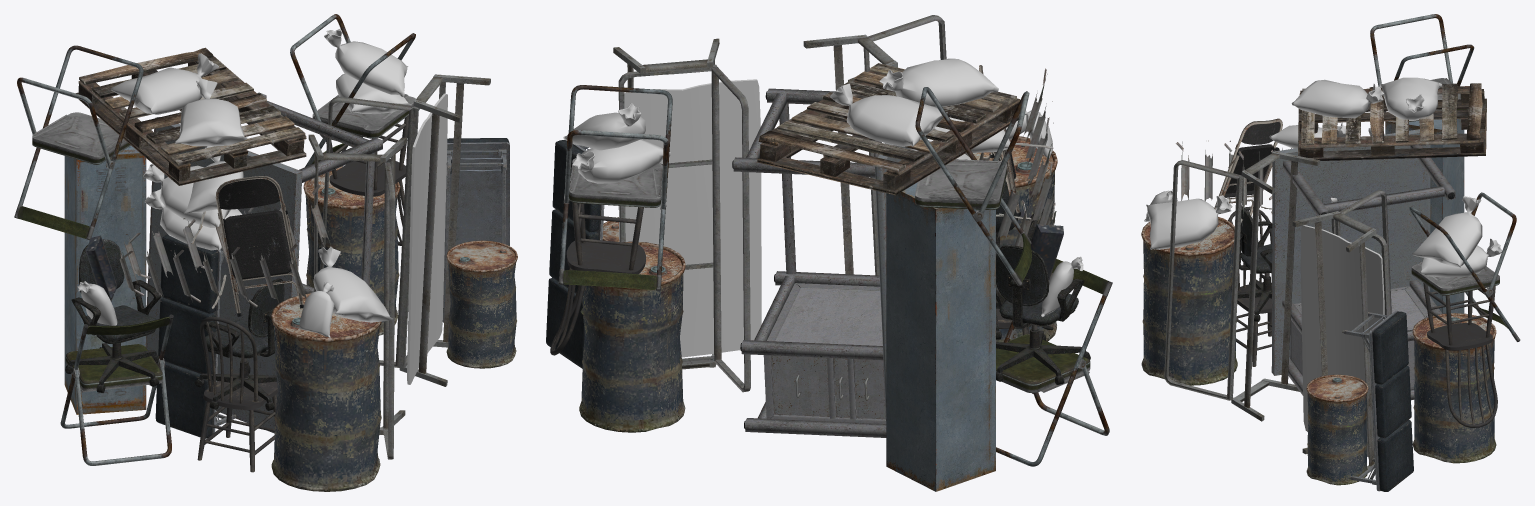
File: sm39_209_w2fbarricade.fbx
The picture shows the model from 3 angles, left to right: view 1: azimuth 30°, elevation 25°; view 2: azimuth 150°, elevation 25°; view 3: azimuth 270°, elevation 25°; orthographic projection. The views are drawn at different scales.
Visible parts, largest first — view 1: LOD_1_Group_0_Sub_1__sm26_013_oilCan01A_A_Mat, LOD_1_Group_0_Sub_4__sm26_046_Sandbag04A_A_Mat__Env_default, LOD_1_Group_1_Sub_6__sm30_002_OfficeSofa01A_A_Mat1, LOD_1_Group_3_Sub_2__sm26_003_Palette01A_A_Mat, LOD_1_Group_1_Sub_2__sm30_051_Locker01A_A_Mat1, LOD_1_Group_1_Sub_1__sm30_093_STARSPClDesk01A_A_Mat1, LOD_1_Group_1_Sub_3__sm30_056_FoldingChair01A_A_Mat1, LOD_1_Group_2_Sub_3__sm30_126_BenchA01A_A_Mat1, LOD_1_Group_0_Sub_3__sm30_115_cafeChair01A_A_Mat, LOD_1_Group_0_Sub_5__sm26_022_WoodBoard01A_A_Mat, LOD_1_Group_0_Sub_6__sm30_153_FoldingChair01A_A_Mat, LOD_1_Group_1_Sub_5__sm30_126_BenchA01A_A_Mat1 (+7 smaller); view 2: LOD_1_Group_1_Sub_2__sm30_051_Locker01A_A_Mat1, LOD_1_Group_1_Sub_1__sm30_093_STARSPClDesk01A_A_Mat1, LOD_1_Group_0_Sub_5__sm26_022_WoodBoard01A_A_Mat, LOD_1_Group_0_Sub_1__sm26_013_oilCan01A_A_Mat, LOD_1_Group_0_Sub_4__sm26_046_Sandbag04A_A_Mat__Env_default, LOD_1_Group_3_Sub_2__sm26_003_Palette01A_A_Mat, LOD_1_Group_1_Sub_3__sm30_056_FoldingChair01A_A_Mat1, LOD_1_Group_1_Sub_6__sm30_002_OfficeSofa01A_A_Mat1, LOD_1_Group_2_Sub_2__sm30_057_OfficeChair_A_Mat, LOD_1_Group_1_Sub_5__sm30_126_BenchA01A_A_Mat1, LOD_1_Group_0_Sub_3__sm30_115_cafeChair01A_A_Mat, LOD_1_Group_0_Sub_7__sm30_163_Foldingladder03A_A_Mat (+5 smaller); view 3: LOD_1_Group_0_Sub_1__sm26_013_oilCan01A_A_Mat, LOD_1_Group_1_Sub_1__sm30_093_STARSPClDesk01A_A_Mat1, LOD_1_Group_1_Sub_6__sm30_002_OfficeSofa01A_A_Mat1, LOD_1_Group_0_Sub_4__sm26_046_Sandbag04A_A_Mat__Env_default, LOD_1_Group_0_Sub_5__sm26_022_WoodBoard01A_A_Mat, LOD_1_Group_3_Sub_2__sm26_003_Palette01A_A_Mat, LOD_1_Group_1_Sub_5__sm30_126_BenchA01A_A_Mat1, LOD_1_Group_0_Sub_3__sm30_115_cafeChair01A_A_Mat, LOD_1_Group_1_Sub_3__sm30_056_FoldingChair01A_A_Mat1, LOD_1_Group_1_Sub_2__sm30_051_Locker01A_A_Mat1, LOD_1_Group_0_Sub_6__sm30_153_FoldingChair01A_A_Mat, LOD_1_Group_1_Sub_4__sm30_057_OfficeChair_A_Mat (+3 smaller).
Part boxes in pixels (left/top/right/bottom): LOD_1_Group_0_Sub_1__sm26_013_oilCan01A_A_Mat: left=271, top=166, right=517, bottom=491; LOD_1_Group_0_Sub_4__sm26_046_Sandbag04A_A_Mat__Env_default: left=77, top=29, right=411, bottom=337; LOD_1_Group_1_Sub_6__sm30_002_OfficeSofa01A_A_Mat1: left=308, top=74, right=490, bottom=459; LOD_1_Group_3_Sub_2__sm26_003_Palette01A_A_Mat: left=75, top=47, right=306, bottom=185; LOD_1_Group_1_Sub_2__sm30_051_Locker01A_A_Mat1: left=64, top=145, right=146, bottom=414; LOD_1_Group_1_Sub_1__sm30_093_STARSPClDesk01A_A_Mat1: left=146, top=92, right=383, bottom=433; LOD_1_Group_1_Sub_3__sm30_056_FoldingChair01A_A_Mat1: left=17, top=14, right=415, bottom=465; LOD_1_Group_2_Sub_3__sm30_126_BenchA01A_A_Mat1: left=155, top=234, right=236, bottom=438; LOD_1_Group_0_Sub_3__sm30_115_cafeChair01A_A_Mat: left=197, top=115, right=408, bottom=472; LOD_1_Group_0_Sub_5__sm26_022_WoodBoard01A_A_Mat: left=407, top=93, right=447, bottom=384; LOD_1_Group_0_Sub_6__sm30_153_FoldingChair01A_A_Mat: left=215, top=176, right=303, bottom=316; LOD_1_Group_1_Sub_5__sm30_126_BenchA01A_A_Mat1: left=442, top=138, right=509, bottom=322; LOD_1_Group_1_Sub_2__sm30_051_Locker01A_A_Mat1: left=886, top=182, right=995, bottom=491; LOD_1_Group_1_Sub_1__sm30_093_STARSPClDesk01A_A_Mat1: left=732, top=88, right=921, bottom=437; LOD_1_Group_0_Sub_5__sm26_022_WoodBoard01A_A_Mat: left=618, top=79, right=761, bottom=357; LOD_1_Group_0_Sub_1__sm26_013_oilCan01A_A_Mat: left=579, top=136, right=1057, bottom=432; LOD_1_Group_0_Sub_4__sm26_046_Sandbag04A_A_Mat__Env_default: left=563, top=58, right=1083, bottom=316; LOD_1_Group_3_Sub_2__sm26_003_Palette01A_A_Mat: left=757, top=63, right=1020, bottom=195; LOD_1_Group_1_Sub_3__sm30_056_FoldingChair01A_A_Mat1: left=558, top=85, right=1112, bottom=466; LOD_1_Group_1_Sub_6__sm30_002_OfficeSofa01A_A_Mat1: left=613, top=15, right=946, bottom=392; LOD_1_Group_2_Sub_2__sm30_057_OfficeChair_A_Mat: left=996, top=245, right=1090, bottom=384; LOD_1_Group_1_Sub_5__sm30_126_BenchA01A_A_Mat1: left=546, top=140, right=604, bottom=368; LOD_1_Group_0_Sub_3__sm30_115_cafeChair01A_A_Mat: left=550, top=202, right=1043, bottom=393; LOD_1_Group_0_Sub_7__sm30_163_Foldingladder03A_A_Mat: left=965, top=68, right=1063, bottom=280; LOD_1_Group_0_Sub_1__sm26_013_oilCan01A_A_Mat: left=1141, top=217, right=1496, bottom=485; LOD_1_Group_1_Sub_1__sm30_093_STARSPClDesk01A_A_Mat1: left=1271, top=129, right=1455, bottom=400; LOD_1_Group_1_Sub_6__sm30_002_OfficeSofa01A_A_Mat1: left=1164, top=151, right=1391, bottom=471; LOD_1_Group_0_Sub_4__sm26_046_Sandbag04A_A_Mat__Env_default: left=1144, top=77, right=1501, bottom=277; LOD_1_Group_0_Sub_5__sm26_022_WoodBoard01A_A_Mat: left=1300, top=225, right=1384, bottom=457; LOD_1_Group_3_Sub_2__sm26_003_Palette01A_A_Mat: left=1298, top=83, right=1486, bottom=160; LOD_1_Group_1_Sub_5__sm30_126_BenchA01A_A_Mat1: left=1342, top=310, right=1413, bottom=491; LOD_1_Group_0_Sub_3__sm30_115_cafeChair01A_A_Mat: left=1228, top=206, right=1497, bottom=427; LOD_1_Group_1_Sub_3__sm30_056_FoldingChair01A_A_Mat1: left=1409, top=192, right=1520, bottom=341; LOD_1_Group_1_Sub_2__sm30_051_Locker01A_A_Mat1: left=1385, top=119, right=1464, bottom=313; LOD_1_Group_0_Sub_6__sm30_153_FoldingChair01A_A_Mat: left=1214, top=118, right=1282, bottom=215; LOD_1_Group_1_Sub_4__sm30_057_OfficeChair_A_Mat: left=1237, top=205, right=1272, bottom=321.
Size of the model in its own units: 3.83 by 2.63 by 3.09.
